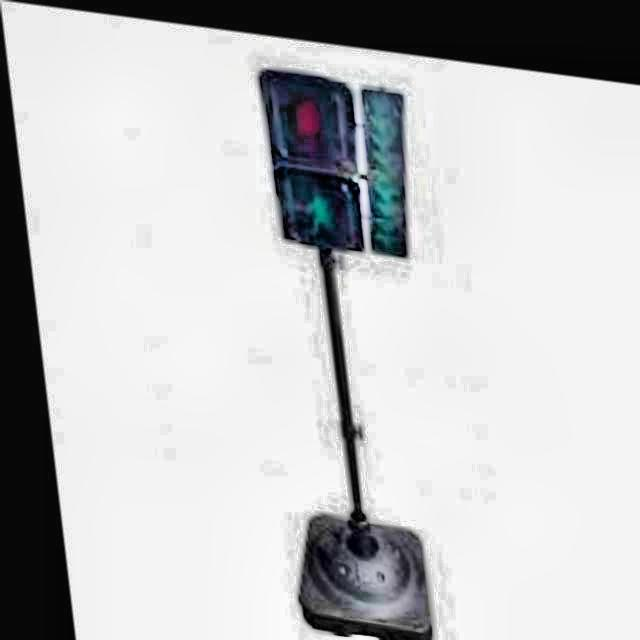semaforo pedestre: (195, 21, 487, 320)
